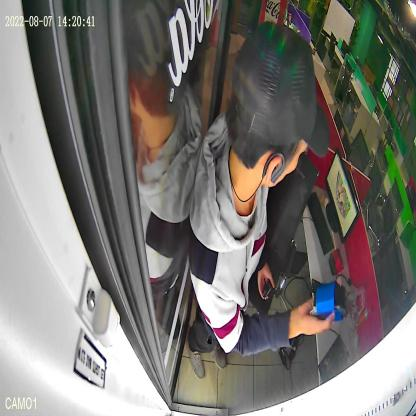blue: (315, 282, 348, 322)
